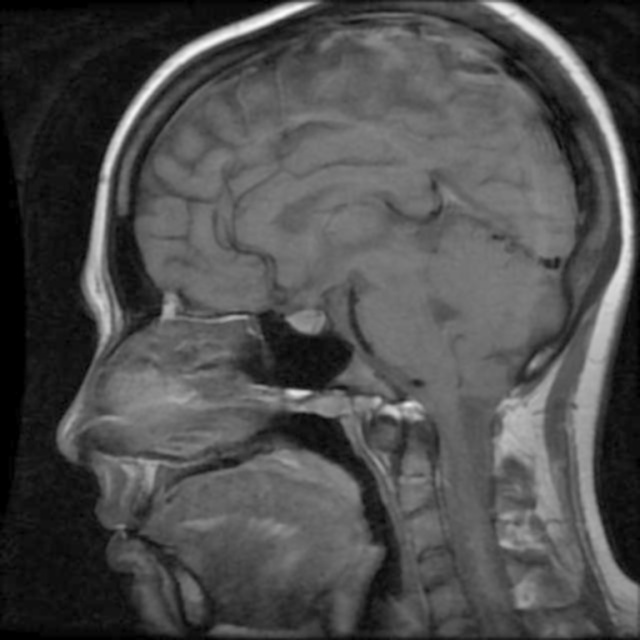no tumor: (281, 306, 341, 342)
